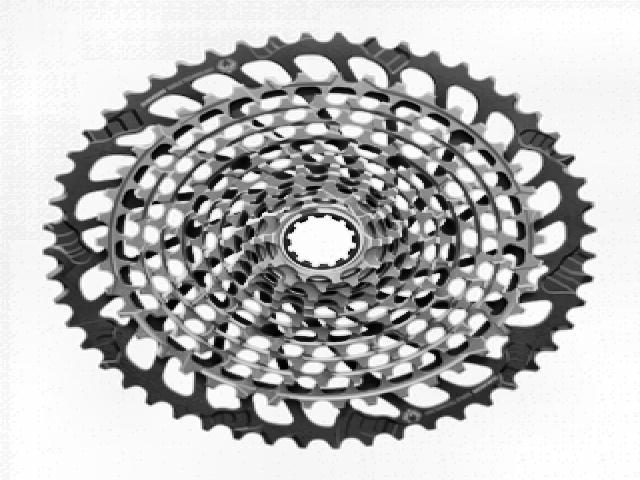cassette: (43, 31, 601, 450)
